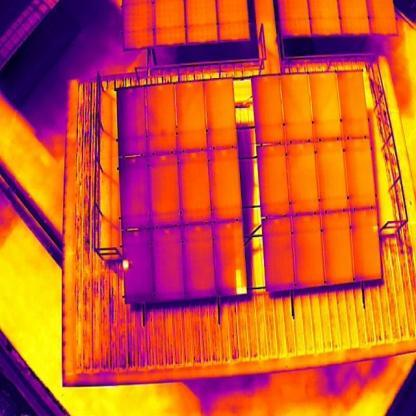anomaly: (234, 269, 249, 297), (119, 258, 133, 271)
